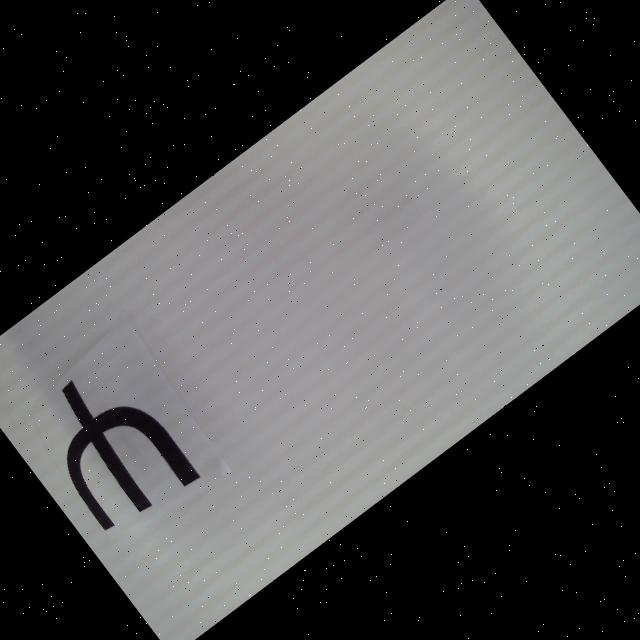PSI: (20, 352, 203, 542)
